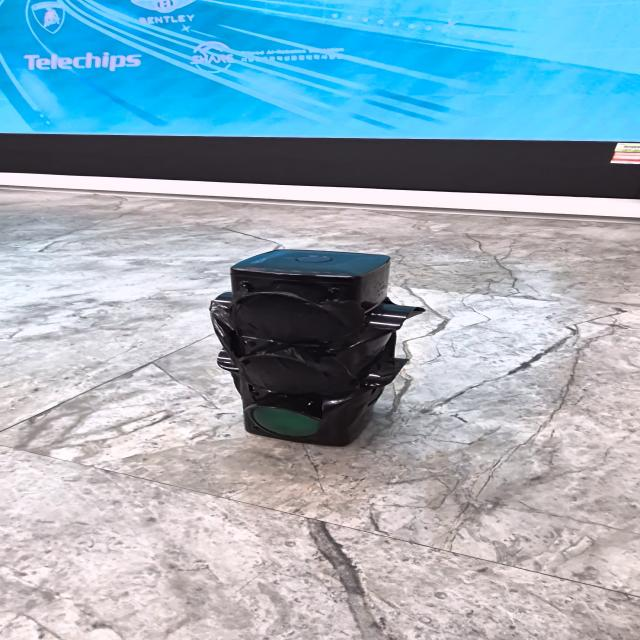green_light: (252, 407, 321, 436)
